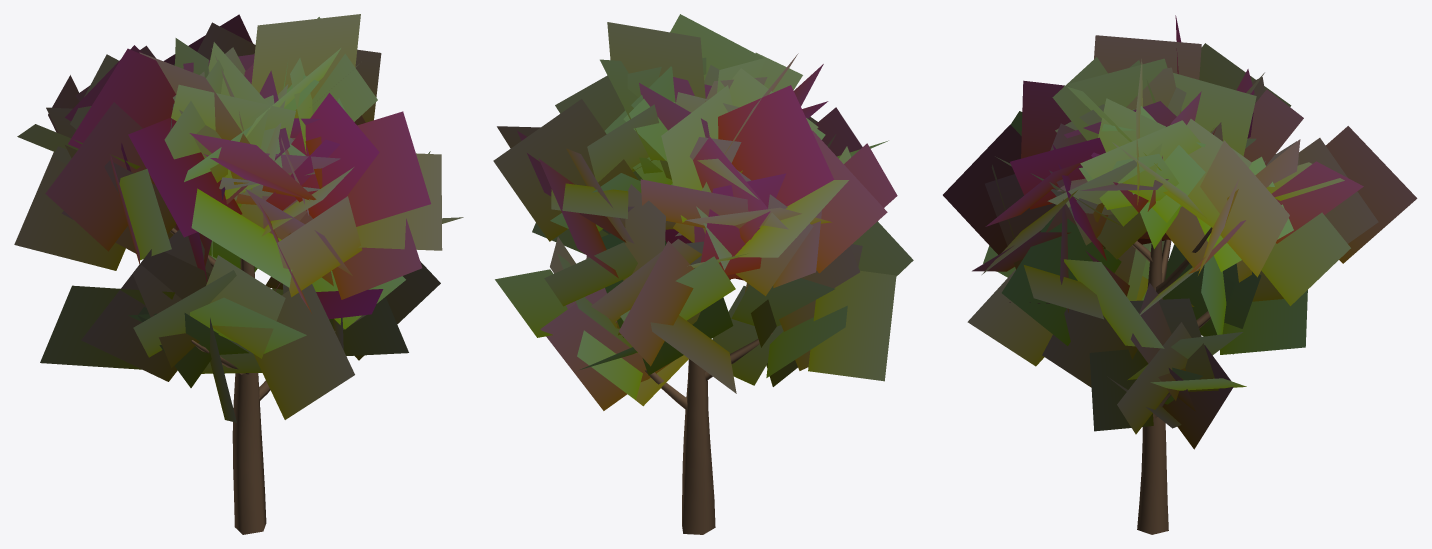
File: tree_maple_far.glb
The picture shows the model from 3 angles, left to right: view 1: azimuth 30°, elevation 25°; view 2: azimuth 150°, elevation 25°; view 3: azimuth 270°, elevation 25°; orthographic projection. The views are drawn at different scales.
Visible parts, largest first — view 1: Leaves, Trunk; view 2: Leaves, Trunk; view 3: Leaves, Trunk.
Boxes of the visible parts, bbox=[...] form: Leaves: bbox=[14, 14, 463, 422]; Trunk: bbox=[170, 228, 270, 534]; Leaves: bbox=[493, 14, 913, 410]; Trunk: bbox=[645, 242, 772, 534]; Leaves: bbox=[943, 15, 1417, 449]; Trunk: bbox=[1132, 227, 1212, 534].
Size of the model in its own units: 6.28 by 8.09 by 7.37.
